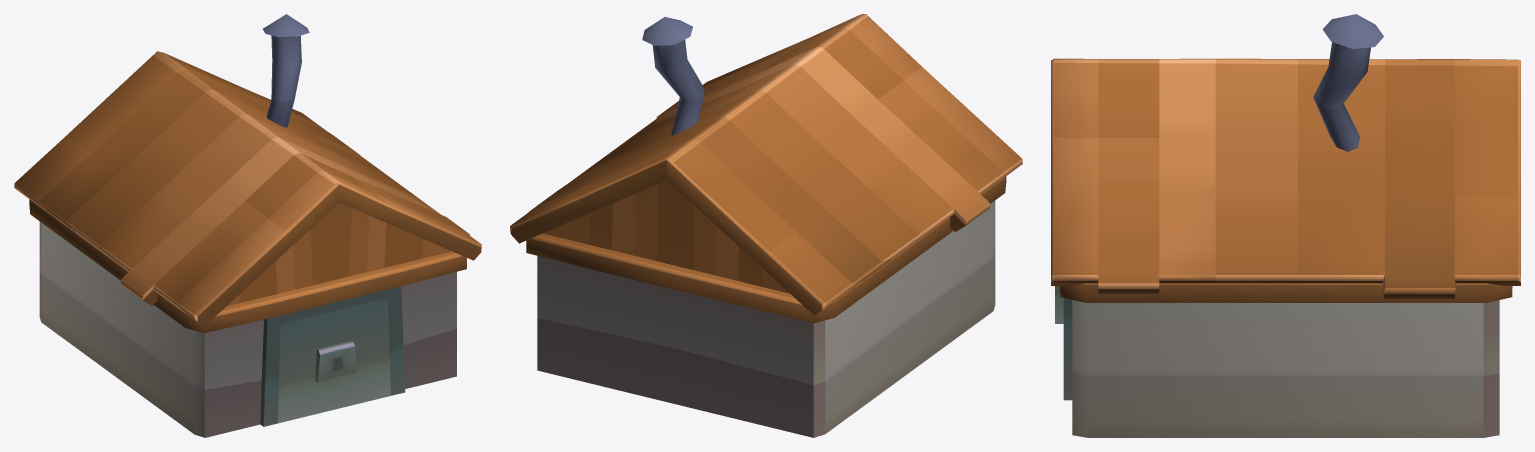
Rendered from desert-building.obj.
3 renders of one model, left to right at view 1: azimuth 30°, elevation 25°; view 2: azimuth 150°, elevation 25°; view 3: azimuth 270°, elevation 25°, orthographic. The views are drawn at different scales.
Parts seen in each view (by area): view 1: desert-building; view 2: desert-building; view 3: desert-building.
Boxes of the visible parts, x1,y1,x2,y2 form: desert-building: (14,14,481,437); desert-building: (510,14,1022,437); desert-building: (1051,14,1520,437).
Bounding box in the file's own units: 12.98 × 12.02 × 13.36.
Materials: 1 (1 with a texture image).
